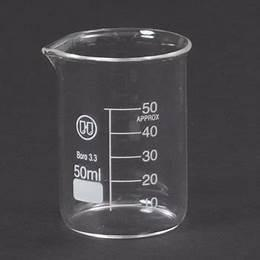Beaker: (45, 22, 195, 242)
